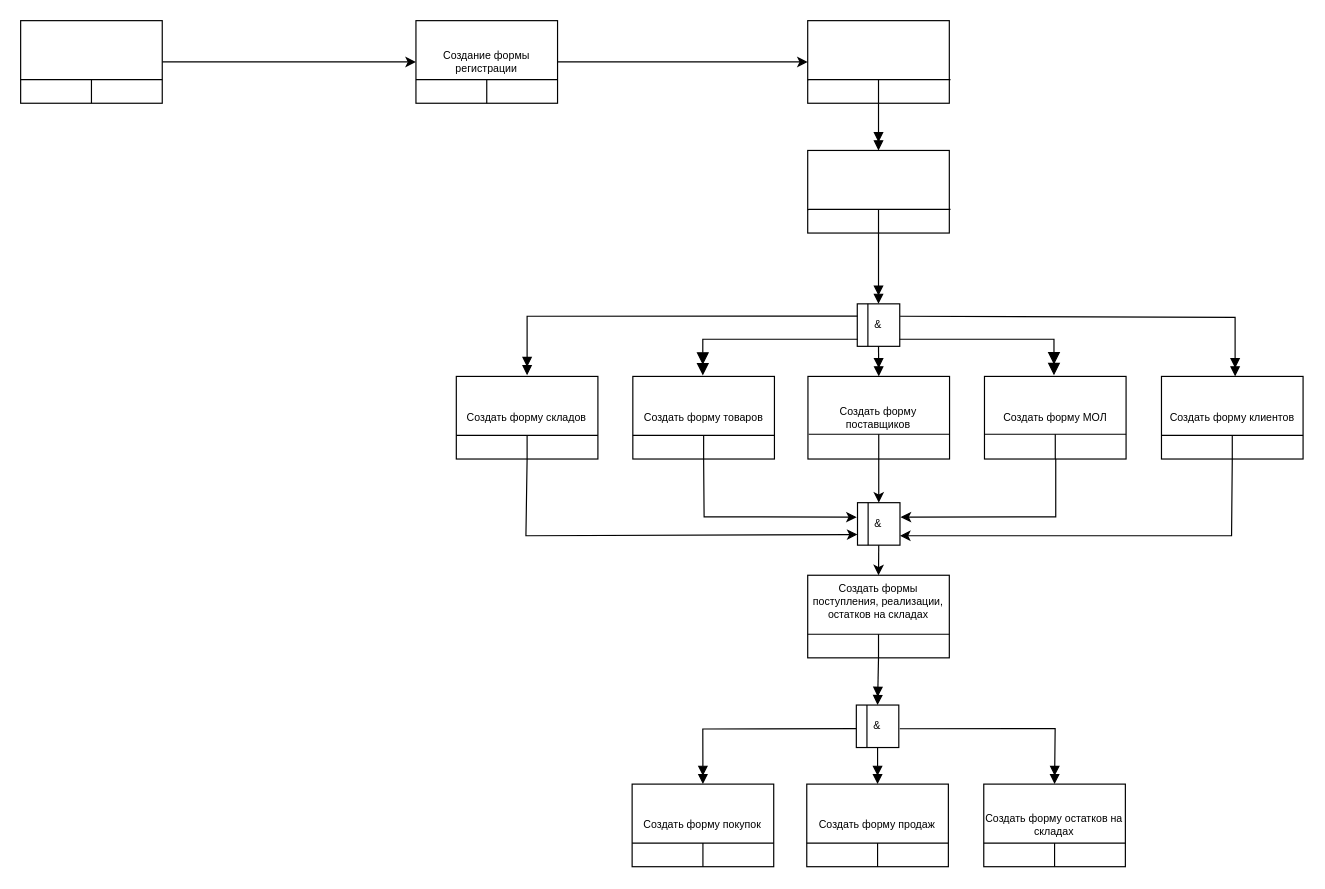
Some shapes in this 1325 by 889 pixel diagram are drawn without their labels. The shapes that lost their labels are listed below. From the top down, each one's centre as x and y in pixels, then its label:
At [90,61]: "Создание формы авторизации".
At [878,61]: "Создать главную форму".
At [878,191]: "Создать формы ввода данных".
